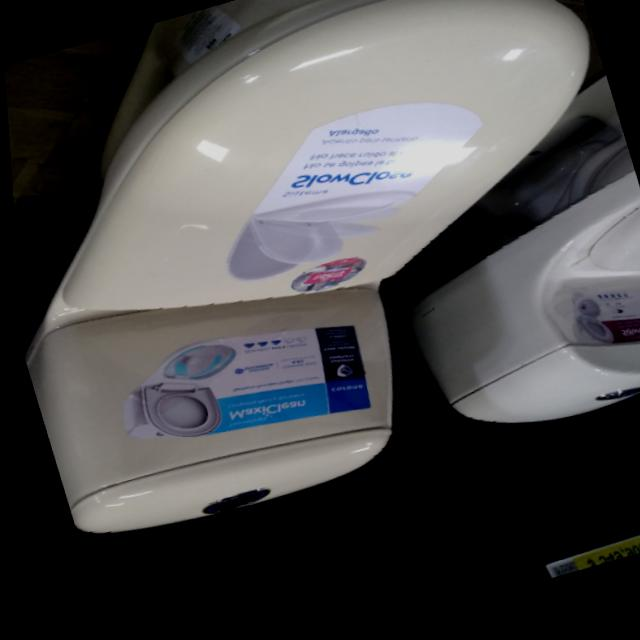toilet: (0, 0, 640, 557)
